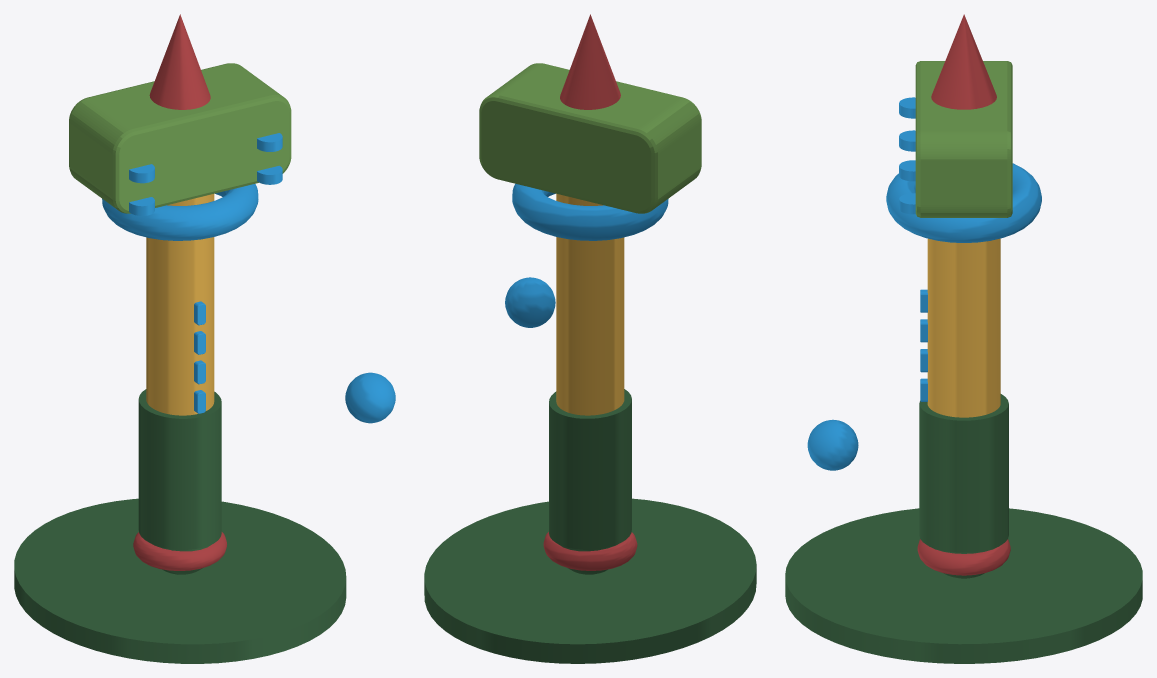
Rendered from 0199_生活中的物理图鉴_反曲弓.glb.
3 views of the same model, side by side, from view 1: azimuth 30°, elevation 25°; view 2: azimuth 150°, elevation 25°; view 3: azimuth 270°, elevation 25° (orthographic).
Visible parts, largest first — view 1: card_0199; view 2: card_0199; view 3: card_0199.
Boxes of the visible parts, x1,y1,x2,y2 form: card_0199: [14, 14, 395, 663]; card_0199: [424, 14, 756, 663]; card_0199: [785, 14, 1142, 663].
Bounding box in the file's own units: 0.5219 × 1 × 0.5578.
